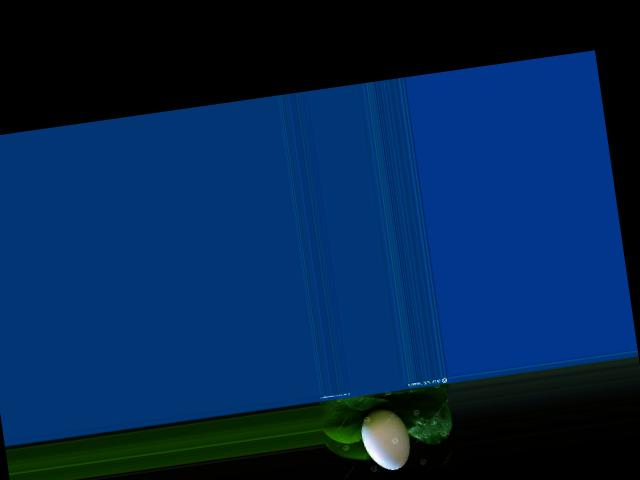egg: (357, 405, 413, 473)
